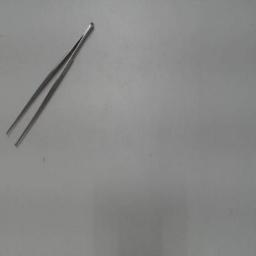Gillies Toothed Dissector: (2, 18, 98, 154)
